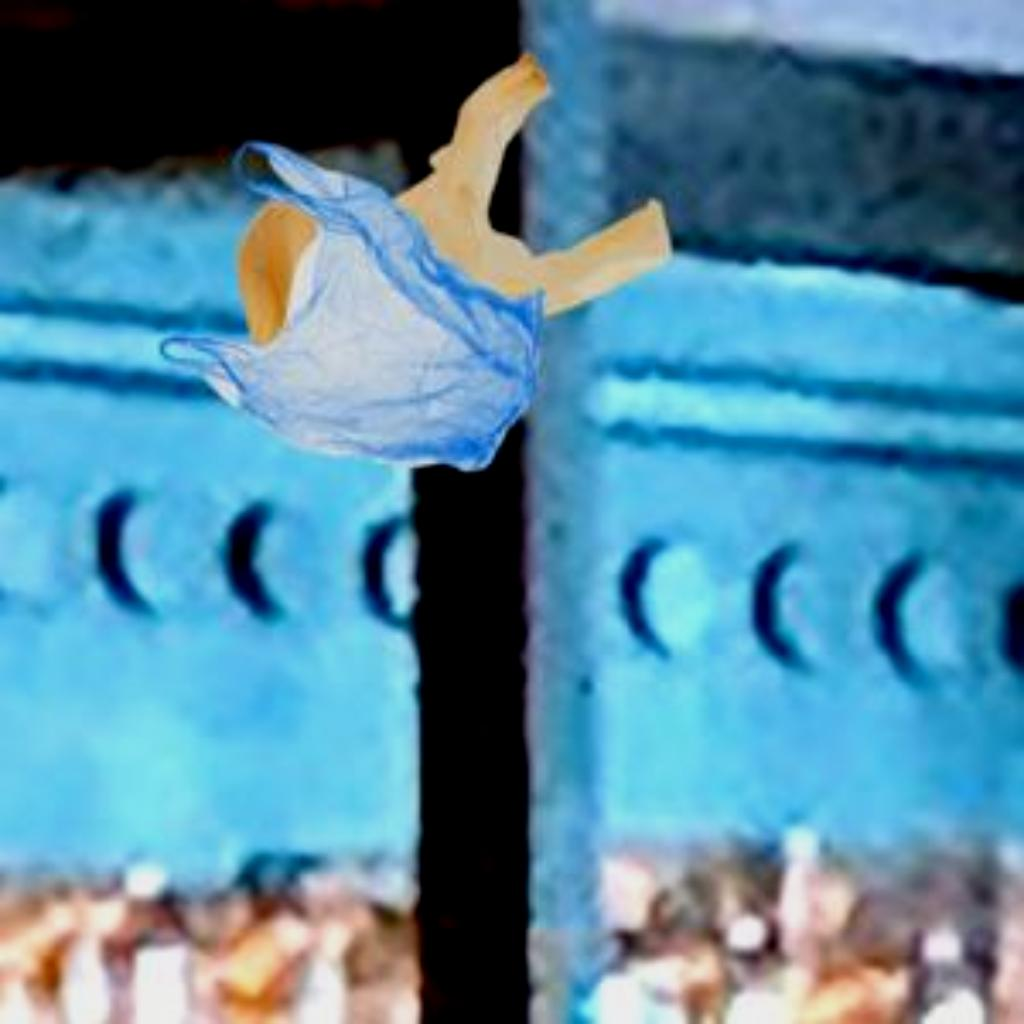garbage: (128, 118, 555, 500), (355, 48, 727, 324)
